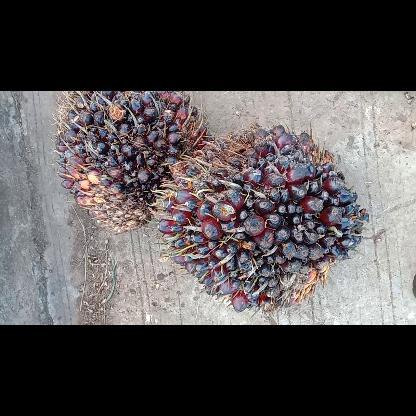TBS mentah: (151, 124, 367, 310), (56, 90, 207, 232)
